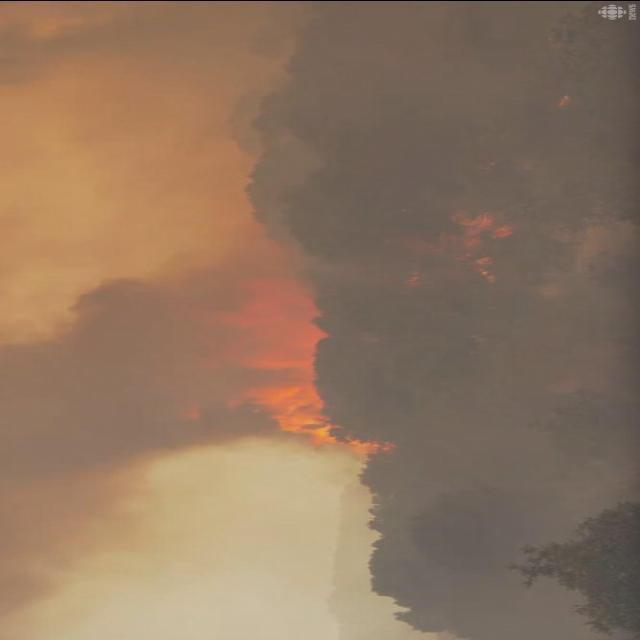Fire: (195, 272, 396, 457), (432, 210, 490, 250), (474, 256, 498, 284), (494, 222, 515, 238)
